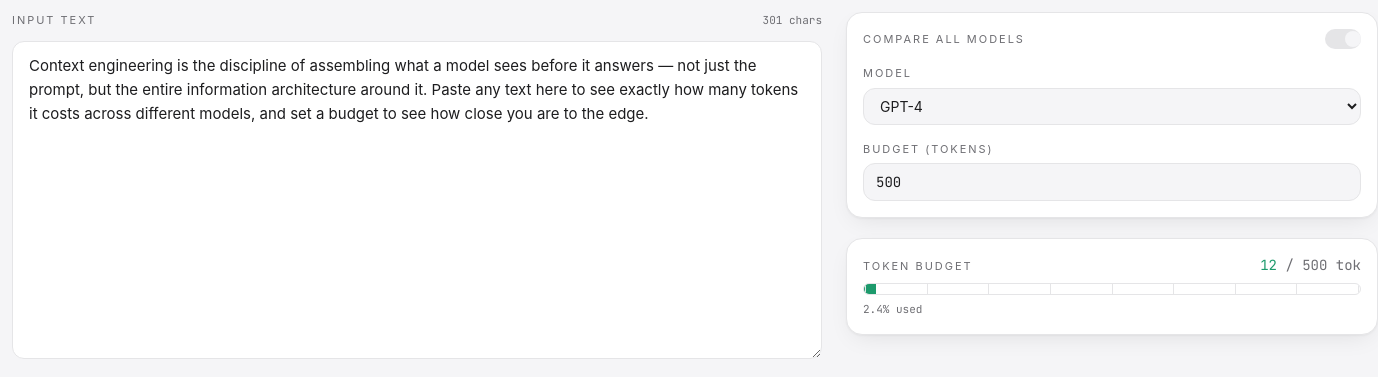
Test: TokenCounter › typing updates the character count immediately (not debounced)
Replace the text in the text box with placeholder "Paste text, a document, or a prompt to measure it..." with "hello" at (417, 200), box [12,40,822,359]
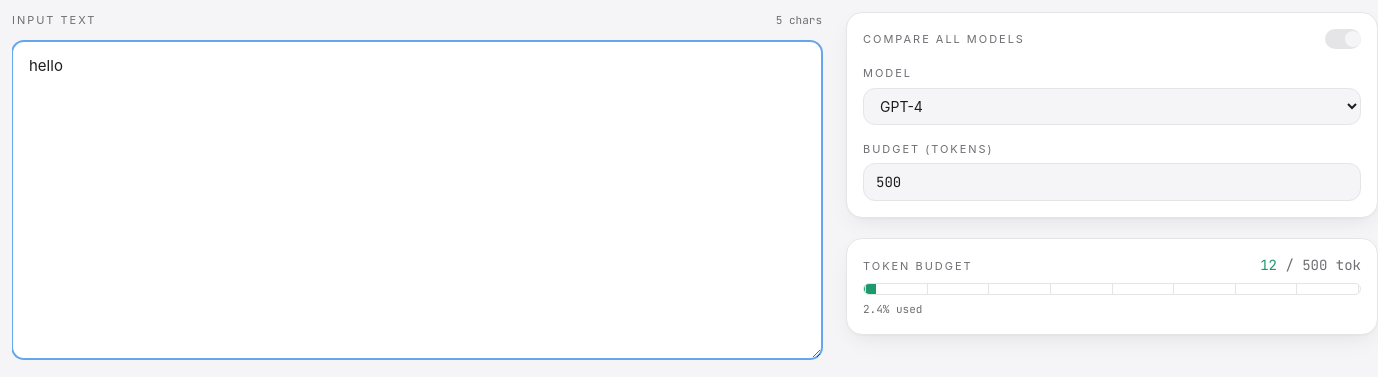
Result: the text "5 chars" is shown at [776,12,822,28]
